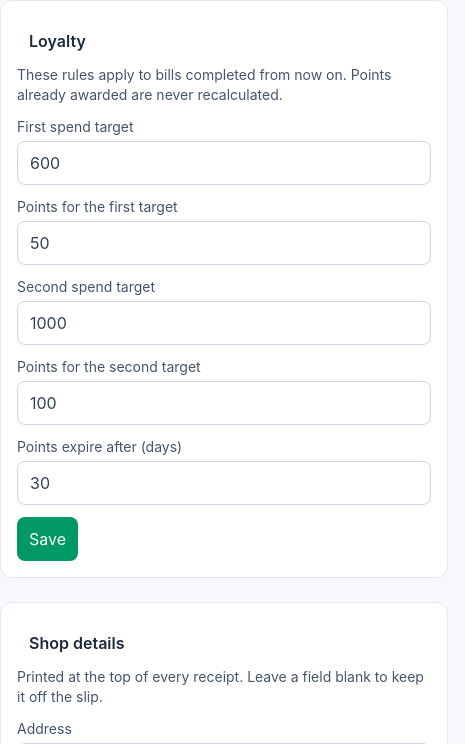
Test case: the loyalty settings screen › confirms a successful save
Expected: the field with test id "settings-points_threshold_1" is shown, 17,141 -> 431,185
Click the button with test id "settings-save". click: (48, 539)
box: 17,517 -> 78,561
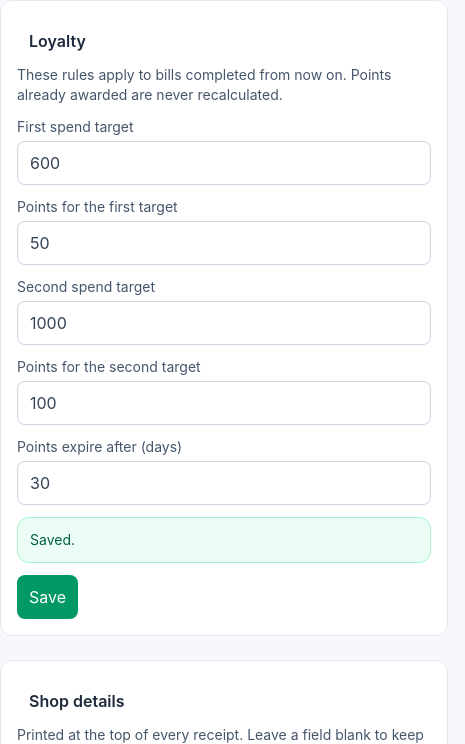
Result: the text "Saved." is shown at 30,531 -> 75,548
